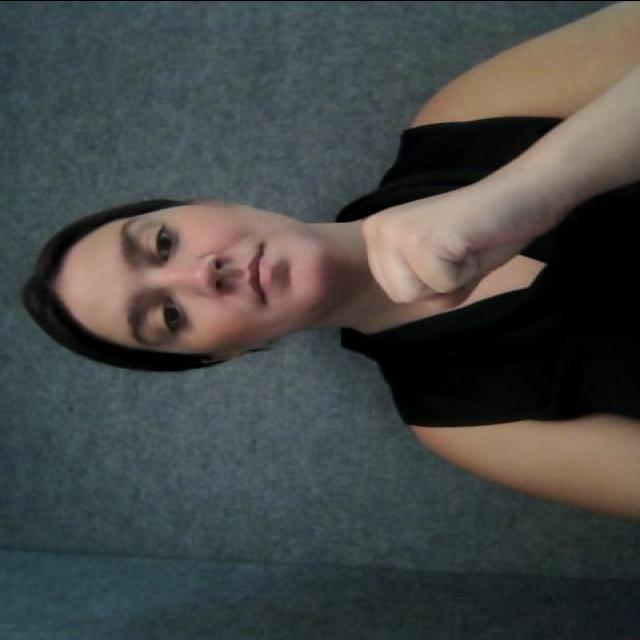Rock: (344, 174, 530, 330)
